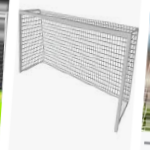goals: (17, 6, 139, 136)
